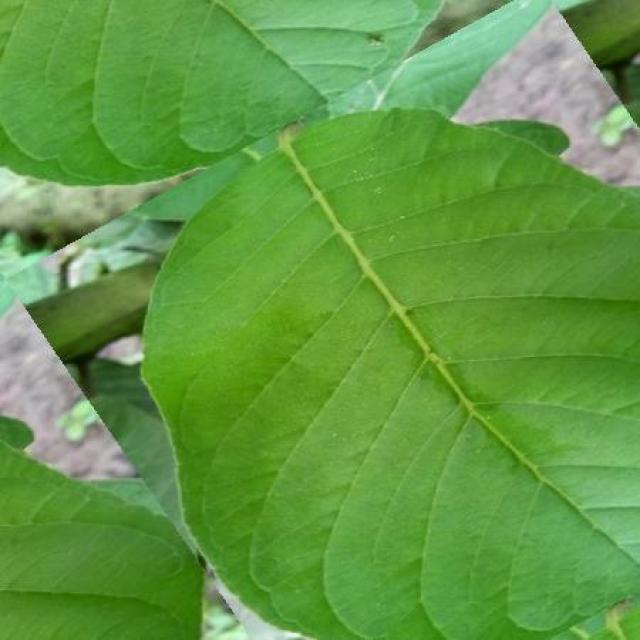Disease Free: (0, 0, 640, 640)
